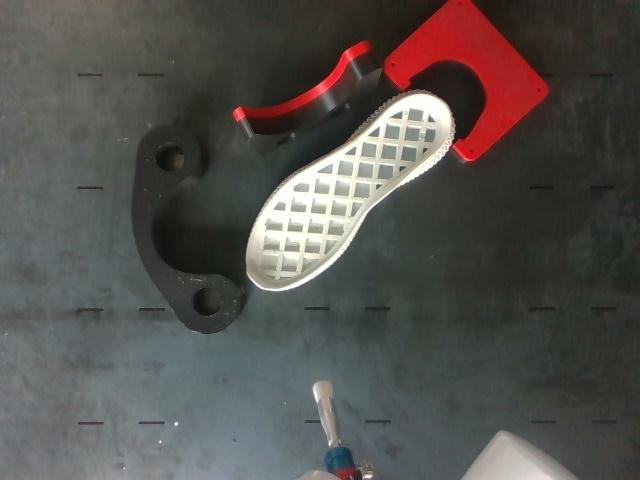shoes: (247, 94, 450, 289)
